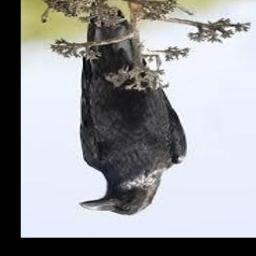Crow: (79, 0, 186, 215)
